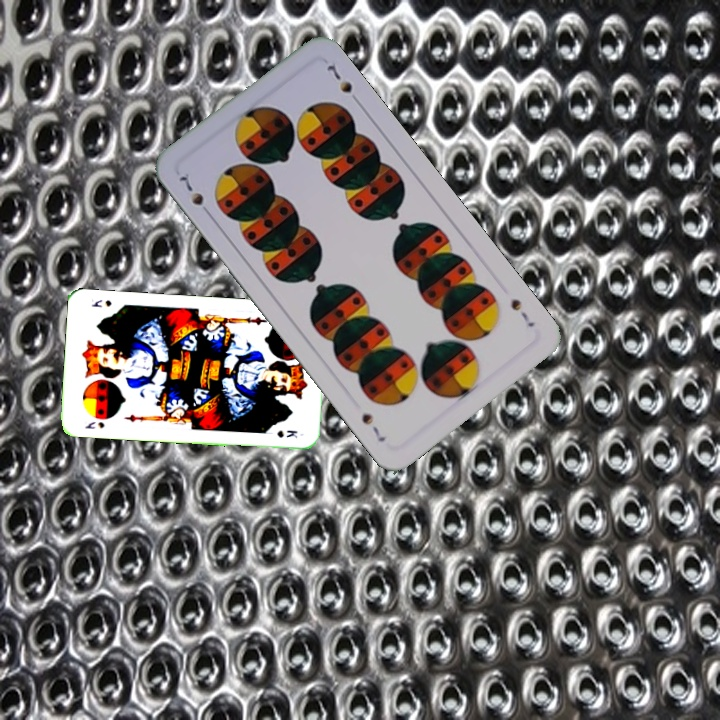S7: (175, 172, 215, 220), (506, 295, 538, 330)
SK: (81, 417, 107, 431)
